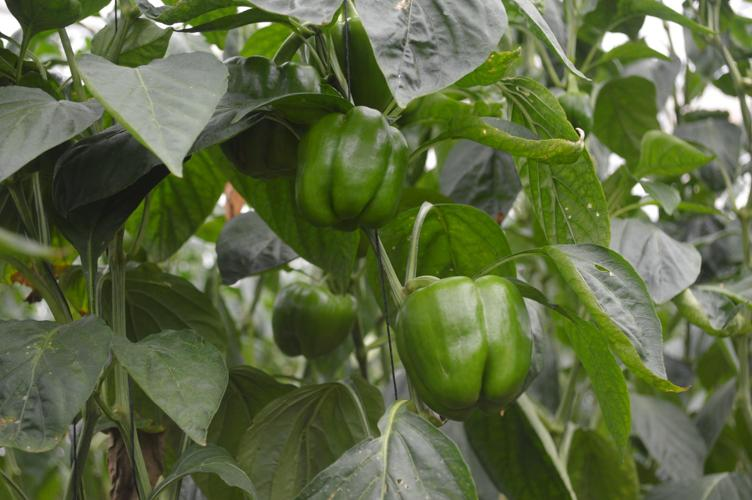BellPepper: (387, 270, 544, 429), (287, 104, 418, 244), (256, 272, 367, 362)
